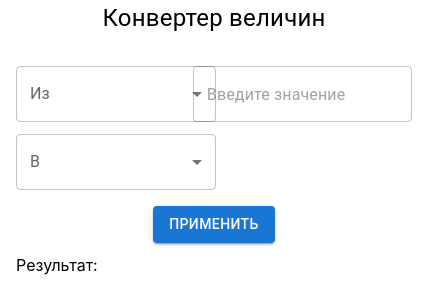
Test: all tests › input type only valid symbols
Type "asdfgh654sadf23" into the number field at (302, 94), box [193,66,412,122]
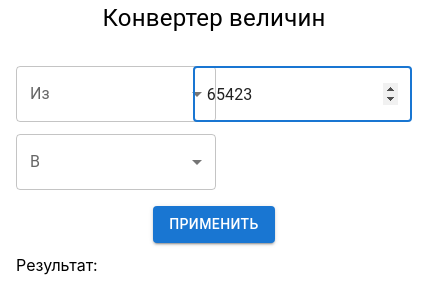
Expected: the number field does not hold "asdfgh654sadf23", [193,66,412,122]
Expected: the number field holds "65423", [193,66,412,122]
